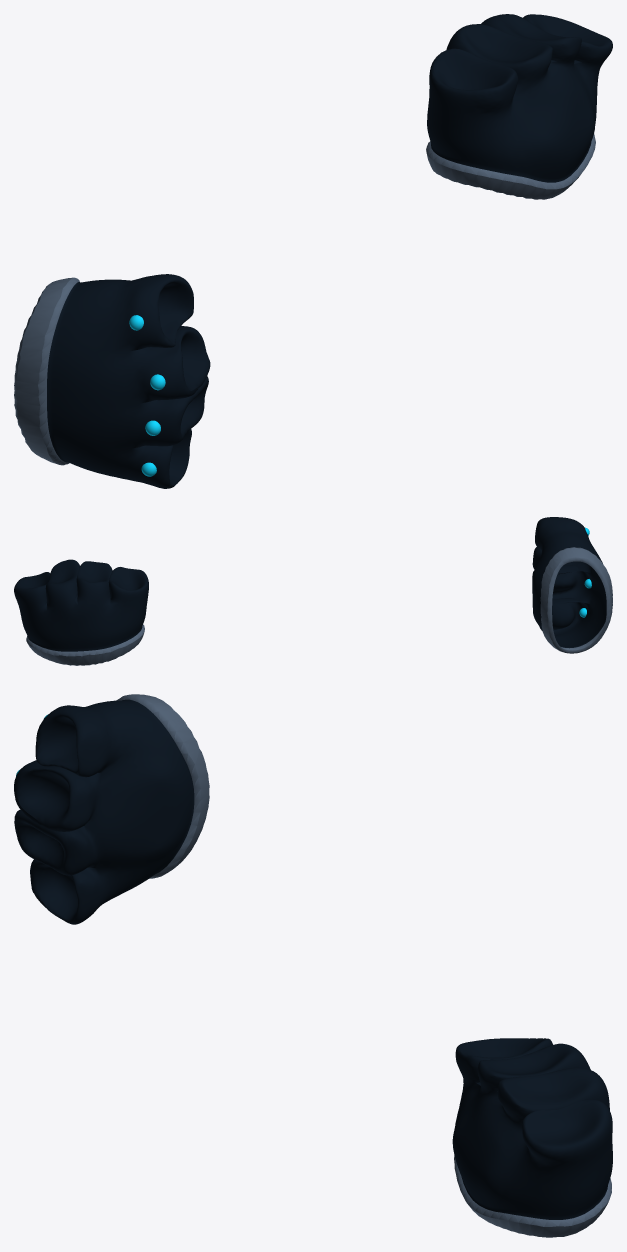
3 renders of one model, top to bottom at view 1: azimuth 30°, elevation 25°; view 2: azimuth 150°, elevation 25°; view 3: azimuth 270°, elevation 25°, orthographic. The views are drawn at different scales.
Visible parts, largest first — view 1: accessories_glove_L, accessories_glove_R; view 2: accessories_glove_R, accessories_glove_L; view 3: accessories_glove_L, accessories_glove_R.
Part boxes in pixels (x1,y1,x2,y2): accessories_glove_L: [14, 274, 210, 488]; accessories_glove_R: [426, 14, 612, 199]; accessories_glove_R: [14, 559, 148, 665]; accessories_glove_L: [532, 517, 612, 653]; accessories_glove_L: [14, 694, 209, 924]; accessories_glove_R: [452, 1038, 612, 1237].
Bounding box in the file's own units: 135 × 86.65 × 33.68.
